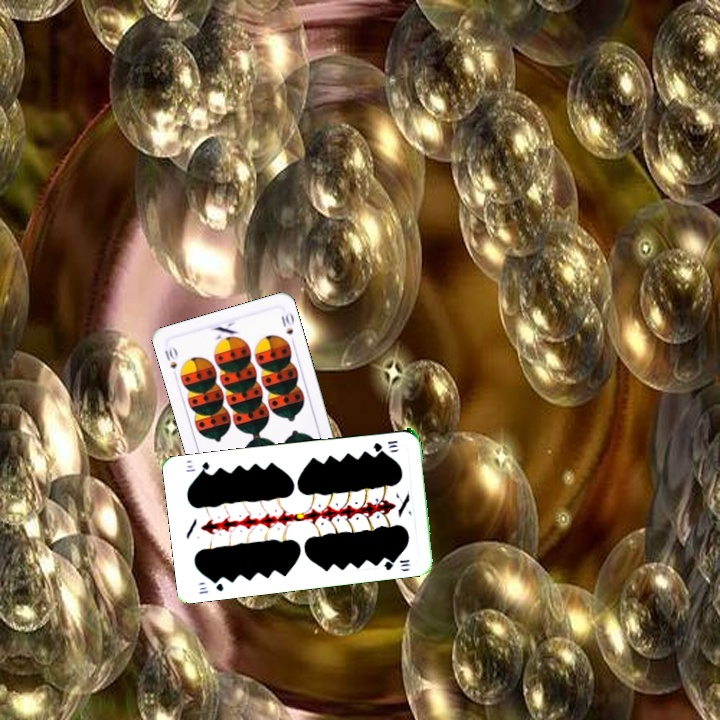G10: (194, 575, 226, 596), (369, 436, 400, 455)
S10: (160, 343, 180, 371)
